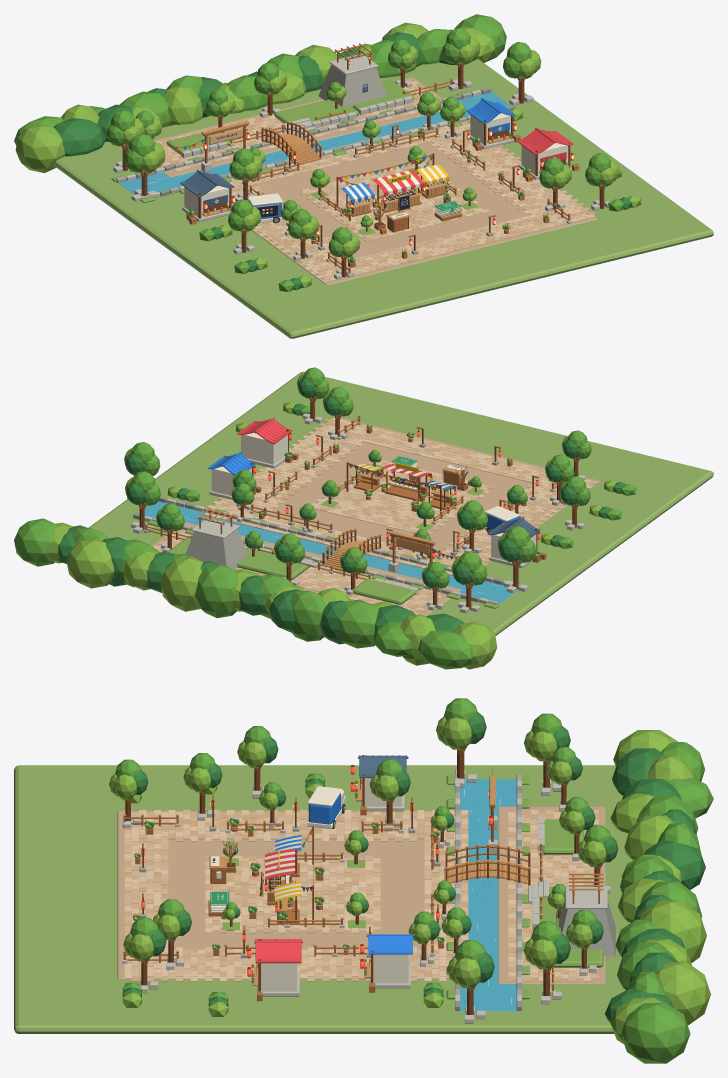
The model's file is yatai-board-village.glb.
The picture shows the model from 3 angles, top to bottom: view 1: azimuth 30°, elevation 25°; view 2: azimuth 150°, elevation 25°; view 3: azimuth 270°, elevation 25°; orthographic projection. The views are drawn at different scales.
Visible parts, largest first — view 1: BoardVillage_Meadow, BoardVillage_Leaf_medium, BoardVillage_Leaf_sunshine, BoardVillage_Sandstone_grout, BoardVillage_Stone_sunshine, BoardVillage_Warm_cedar, BoardVillage_Leaf_forest, BoardVillage_Dark_cedar, BoardVillage_Paver_4, BoardVillage_Paver_5, BoardVillage_Paver_1, BoardVillage_Paver_2 (+12 smaller); view 2: BoardVillage_Meadow, BoardVillage_Leaf_medium, BoardVillage_Leaf_forest, BoardVillage_Leaf_sunshine, BoardVillage_Sandstone_grout, BoardVillage_Warm_cedar, BoardVillage_Stone_sunshine, BoardVillage_Paver_2, BoardVillage_Paver_1, BoardVillage_Paver_4, BoardVillage_Paver_5, BoardVillage_Paver_0 (+10 smaller); view 3: BoardVillage_Meadow, BoardVillage_Leaf_sunshine, BoardVillage_Sandstone_grout, BoardVillage_Leaf_medium, BoardVillage_Leaf_forest, BoardVillage_Paver_1, BoardVillage_Paver_4, BoardVillage_Jade_blue_stream, BoardVillage_Paver_5, BoardVillage_Paver_2, BoardVillage_Stone_sunshine, BoardVillage_Paver_3 (+11 smaller).
Boxes of the visible parts, bbox=[...] form: BoardVillage_Meadow: bbox=[53, 59, 713, 338]; BoardVillage_Leaf_medium: bbox=[14, 14, 624, 291]; BoardVillage_Leaf_sunshine: bbox=[15, 22, 641, 288]; BoardVillage_Sandstone_grout: bbox=[154, 77, 597, 285]; BoardVillage_Stone_sunshine: bbox=[113, 53, 610, 279]; BoardVillage_Warm_cedar: bbox=[121, 45, 605, 273]; BoardVillage_Leaf_forest: bbox=[53, 29, 632, 290]; BoardVillage_Dark_cedar: bbox=[122, 56, 604, 277]; BoardVillage_Paver_4: bbox=[162, 80, 580, 282]; BoardVillage_Paver_5: bbox=[164, 81, 595, 276]; BoardVillage_Paver_1: bbox=[164, 85, 590, 275]; BoardVillage_Paver_2: bbox=[155, 89, 587, 280]; BoardVillage_Meadow: bbox=[88, 371, 713, 635]; BoardVillage_Leaf_medium: bbox=[14, 367, 636, 669]; BoardVillage_Leaf_forest: bbox=[58, 377, 625, 644]; BoardVillage_Leaf_sunshine: bbox=[50, 373, 617, 669]; BoardVillage_Sandstone_grout: bbox=[152, 417, 600, 616]; BoardVillage_Warm_cedar: bbox=[138, 397, 579, 591]; BoardVillage_Stone_sunshine: bbox=[131, 413, 585, 613]; BoardVillage_Paver_2: bbox=[164, 419, 592, 611]; BoardVillage_Paver_1: bbox=[157, 423, 567, 612]; BoardVillage_Paver_4: bbox=[156, 422, 598, 607]; BoardVillage_Paver_5: bbox=[153, 418, 556, 605]; BoardVillage_Paver_0: bbox=[158, 421, 556, 614]; BoardVillage_Meadow: bbox=[14, 765, 632, 1033]; BoardVillage_Leaf_sunshine: bbox=[109, 717, 710, 1043]; BoardVillage_Sandstone_grout: bbox=[117, 806, 605, 983]; BoardVillage_Leaf_medium: bbox=[115, 698, 713, 1063]; BoardVillage_Leaf_forest: bbox=[122, 712, 705, 1022]; BoardVillage_Paver_1: bbox=[124, 810, 598, 981]; BoardVillage_Paver_4: bbox=[124, 810, 598, 981]; BoardVillage_Jade_blue_stream: bbox=[460, 779, 516, 1011]; BoardVillage_Paver_5: bbox=[124, 810, 594, 981]; BoardVillage_Paver_2: bbox=[124, 810, 598, 981]; BoardVillage_Stone_sunshine: bbox=[122, 769, 610, 1023]; BoardVillage_Paver_3: bbox=[124, 812, 598, 981].
Size of the model in its own units: 66.24 by 11.39 by 65.06.
